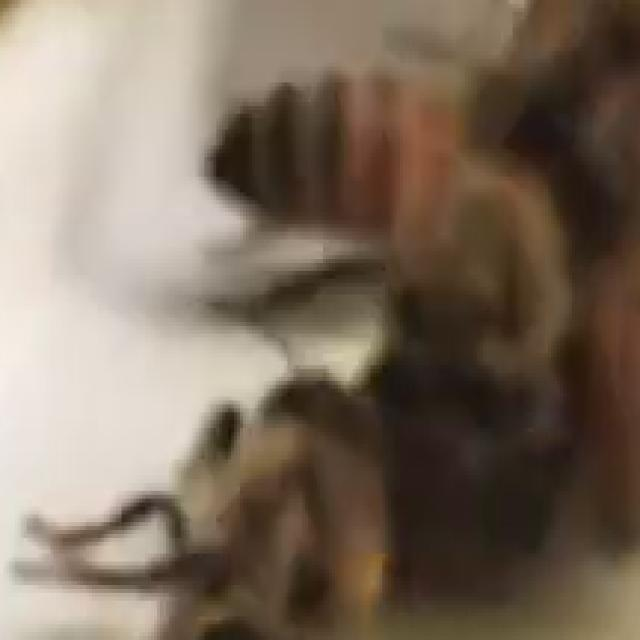honeybee: (54, 357, 626, 634), (140, 29, 570, 387)
